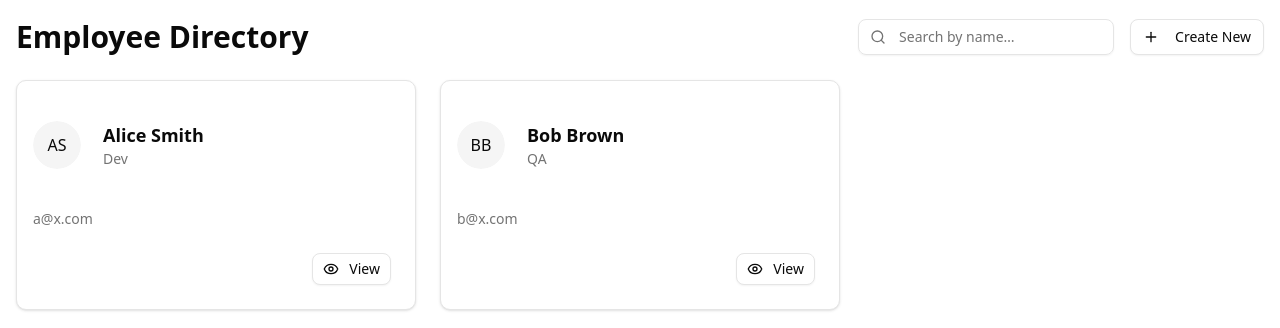
Test: Home page › renders filtered EmployeesList when data is present and filter is applied
This screenshot has width=1280, height=328.
Expected: the number of elements with test id "employee-card" is 2, [16,80,416,310]; [440,80,840,310]
In the field with placeholder "Search by name…": {"x": 986, "y": 37} [858,19,1114,55], type "bob"
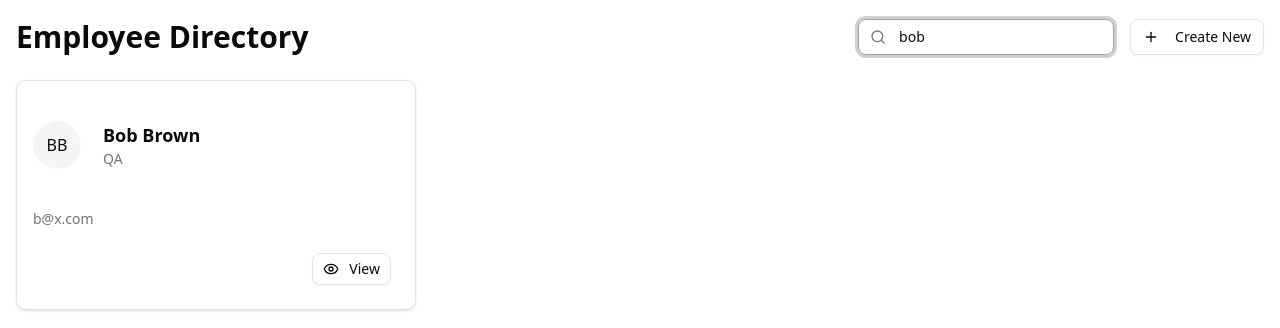
Expected: the element with test id "employee-card" shows "Bob Brown", [16,80,416,310]
Now the number of elements with test id "employee-card" is 1, box [16,80,416,310]
